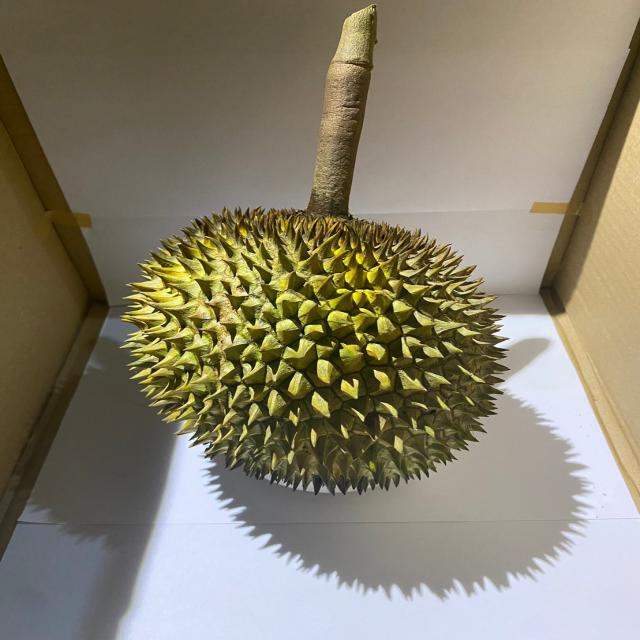immature: (114, 202, 514, 491)
